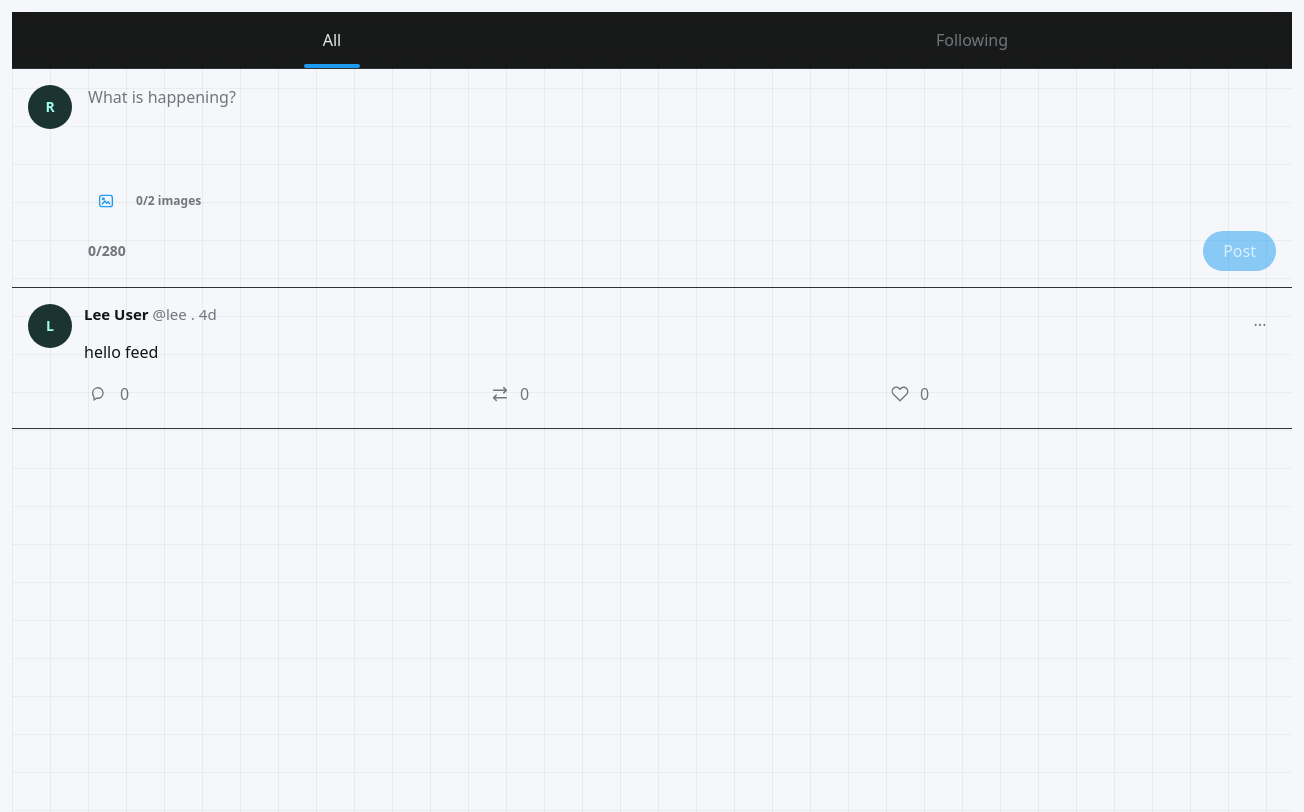
Test: Phase 5 feed UI › loads All and Following tabs in the Home feed
The width and height of the screenshot is (1304, 812).
Expected: the text "hello feed" is shown, [84,341,158,363]
Click the button "Following" at {"x": 972, "y": 40}, box [652,12,1292,68]
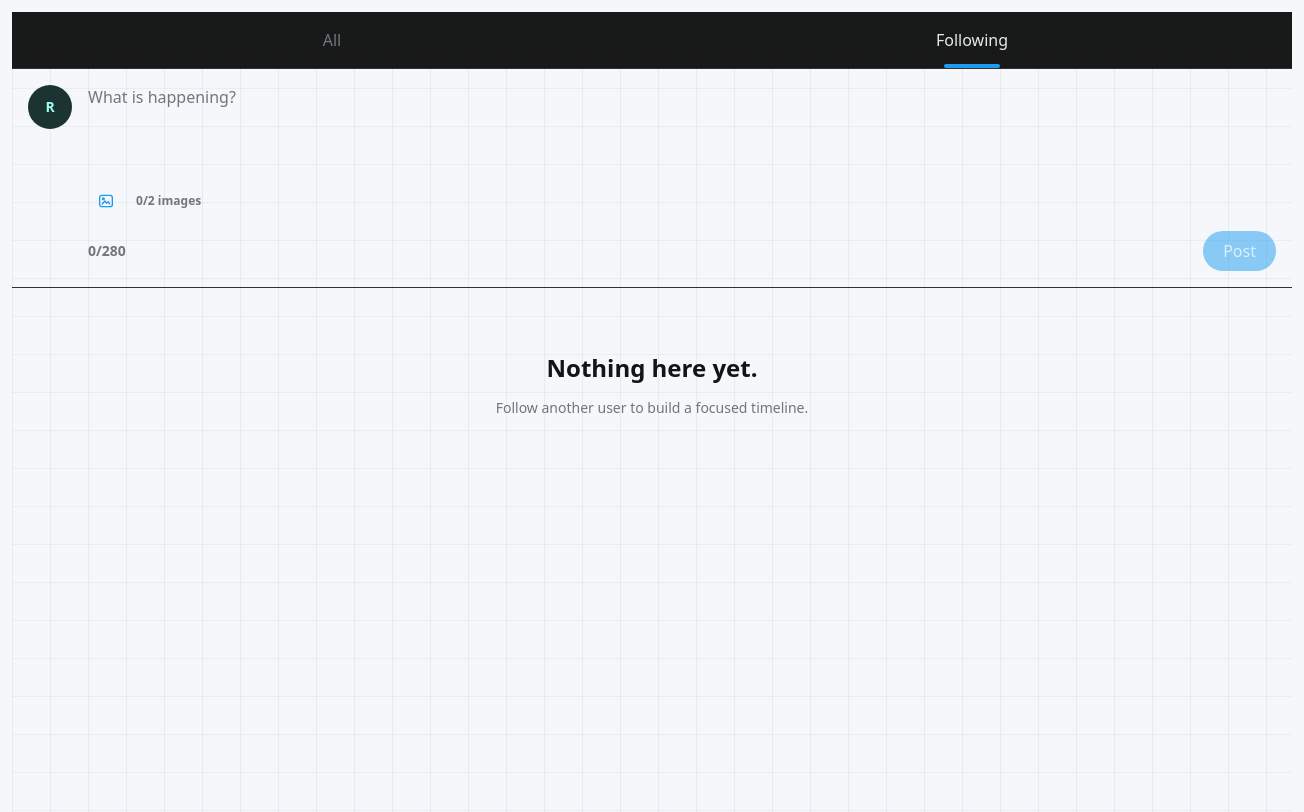
Expected: the text "Follow another user to build a focused timeline." is shown, [496,398,808,417]
